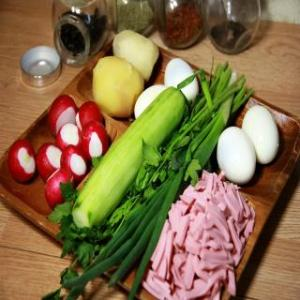egg: (216, 124, 254, 183), (242, 104, 278, 164), (162, 58, 201, 104)
potato: (88, 53, 148, 120), (108, 28, 162, 87)
